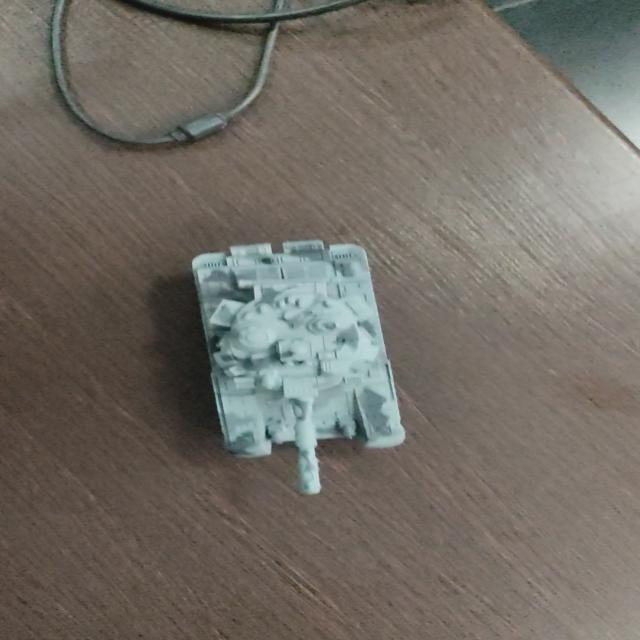tank: (188, 240, 413, 493)
